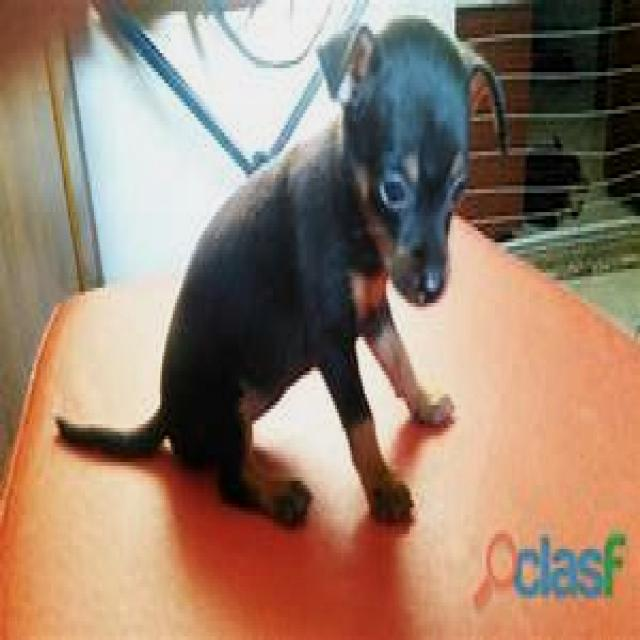KOPEK: (136, 18, 490, 515)
